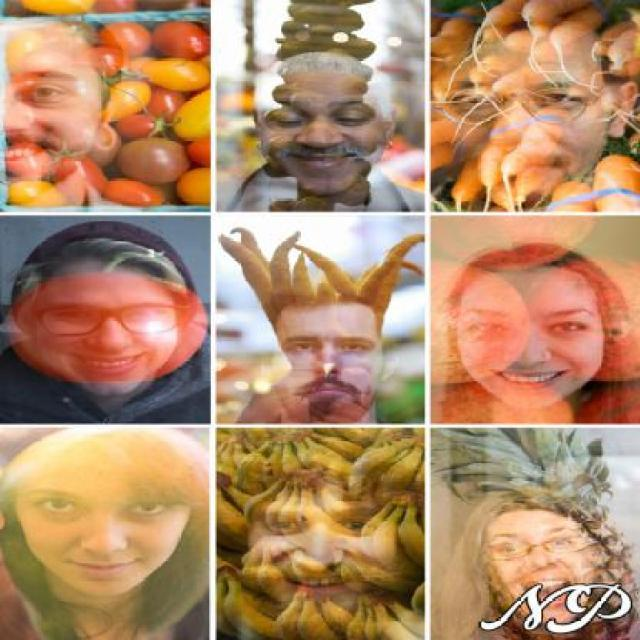Carrot: (430, 0, 638, 212), (501, 97, 576, 214)
